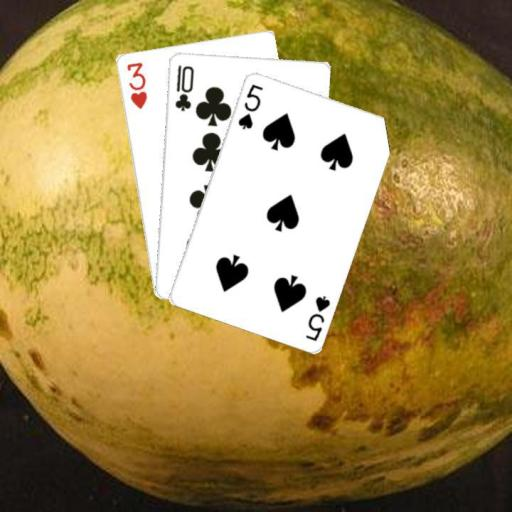10C: (171, 62, 195, 113)
3H: (123, 59, 148, 111)
5S: (235, 80, 264, 130), (303, 292, 332, 342)
